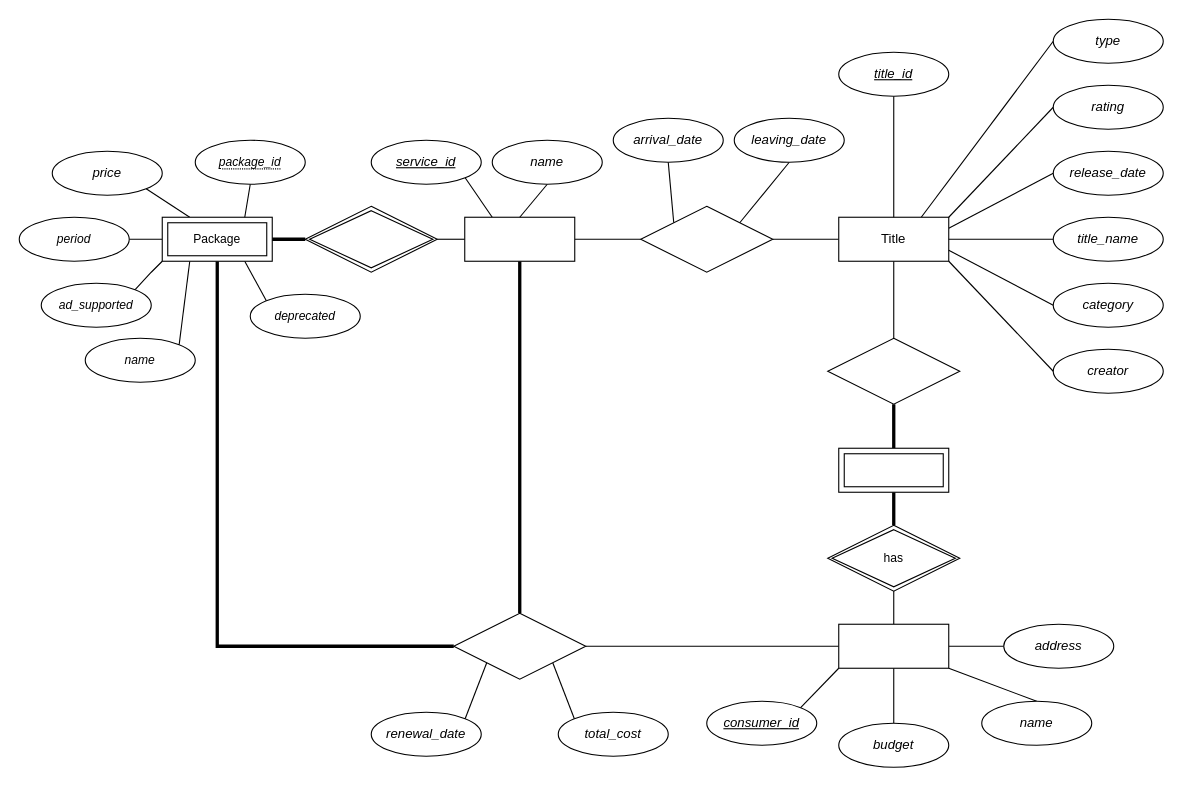
Image size: 1183x787. Some labels were removed from this diagram. Here are the shapes that lost their labels. From the top down, the centre of each, then its label:
At pixel 370 238: "offers".
At pixel 519 238: "Streaming Service".
At pixel 706 238: "streams".
At pixel 893 370: "contains".
At pixel 893 469: "Watchlist".
At pixel 519 645: "subscribes to".
At pixel 893 645: "Consumer".
